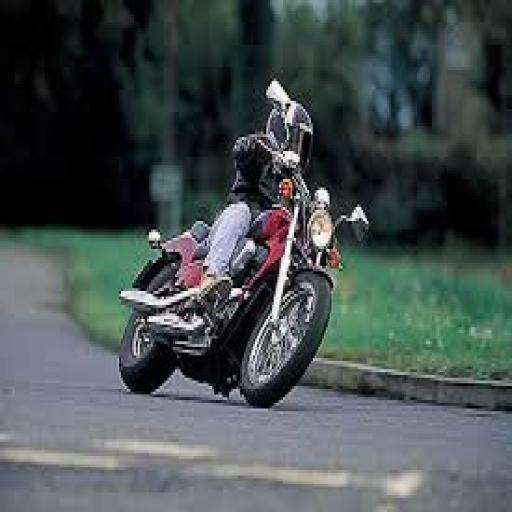helmet: (116, 76, 370, 408), (196, 129, 278, 305)
